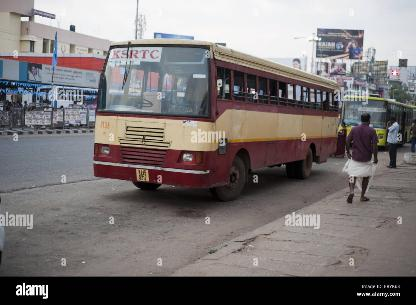bus: (91, 36, 345, 203)
